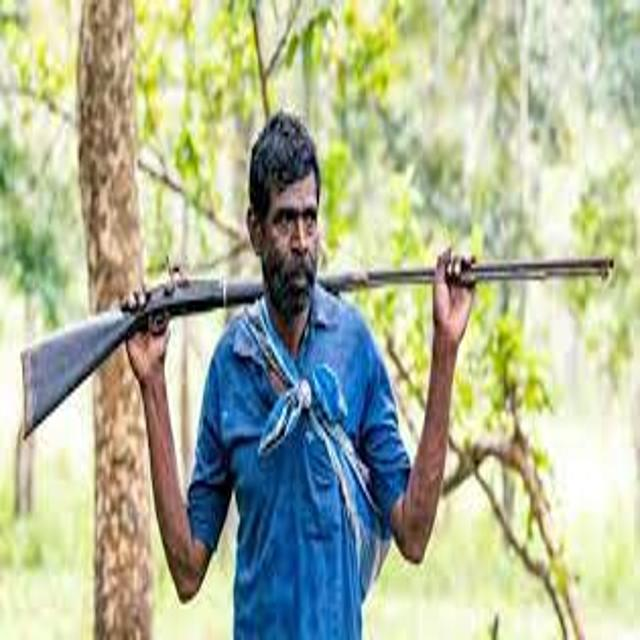gun: (6, 230, 640, 460)
poacher: (93, 78, 509, 640)
